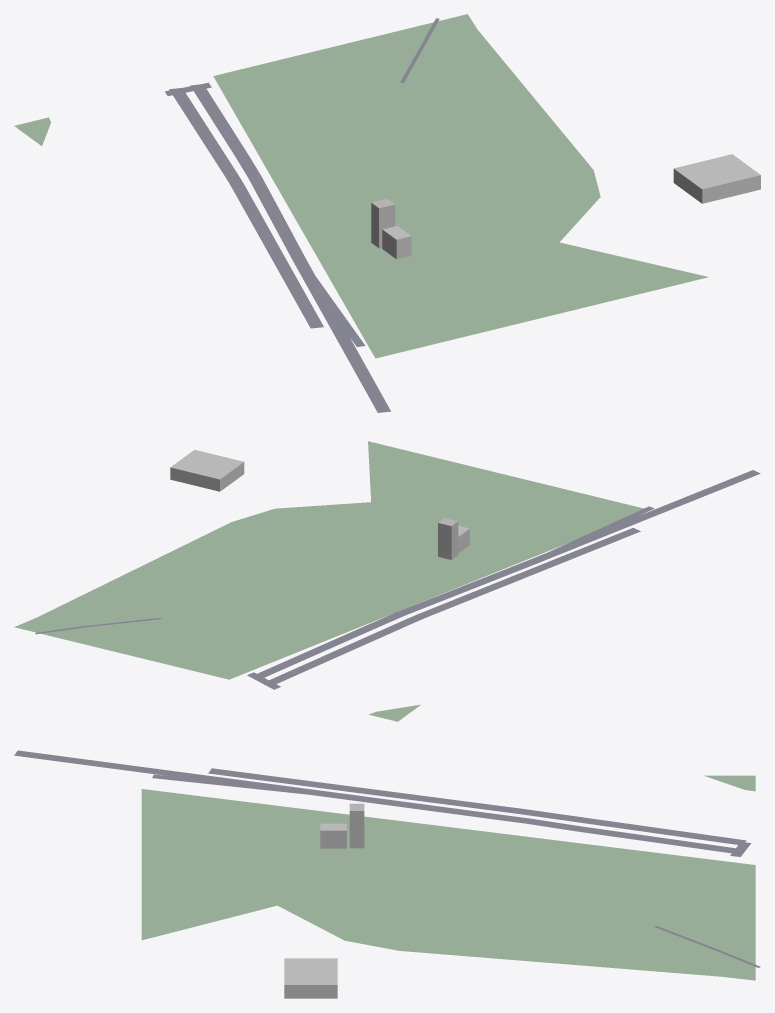
The model's file is 95_102_mid.glb.
3 renders of one model, top to bottom at view 1: azimuth 30°, elevation 25°; view 2: azimuth 150°, elevation 25°; view 3: azimuth 270°, elevation 25°, orthographic. The views are drawn at different scales.
Bounding box in the file's own units: 461 × 34.72 × 608.
